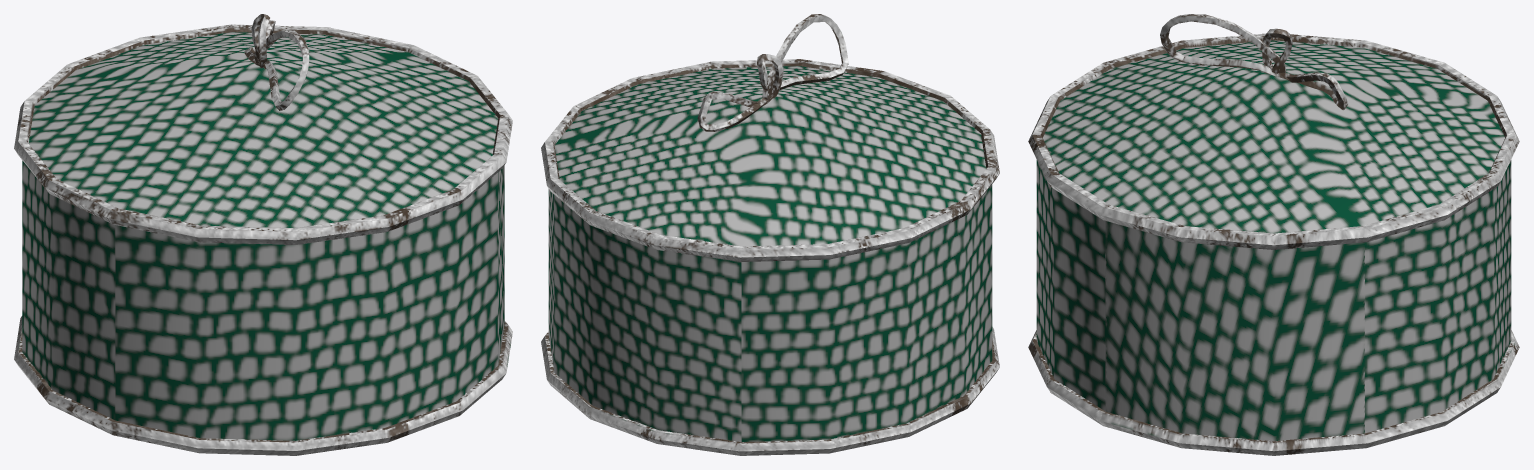
The model's file is crabCage.fbx.
The picture shows the model from 3 angles, left to right: view 1: azimuth 30°, elevation 25°; view 2: azimuth 150°, elevation 25°; view 3: azimuth 270°, elevation 25°; orthographic projection. The views are drawn at different scales.
Parts seen in each view (by area): view 1: 贝塞尔曲线.002; view 2: 贝塞尔曲线.002; view 3: 贝塞尔曲线.002.
Part boxes in pixels (x1=…): 贝塞尔曲线.002: x1=14, y1=14, x2=512, y2=455; 贝塞尔曲线.002: x1=541, y1=14, x2=999, y2=455; 贝塞尔曲线.002: x1=1028, y1=14, x2=1519, y2=455.
Size of the model in its own units: 150 by 113 by 150.
